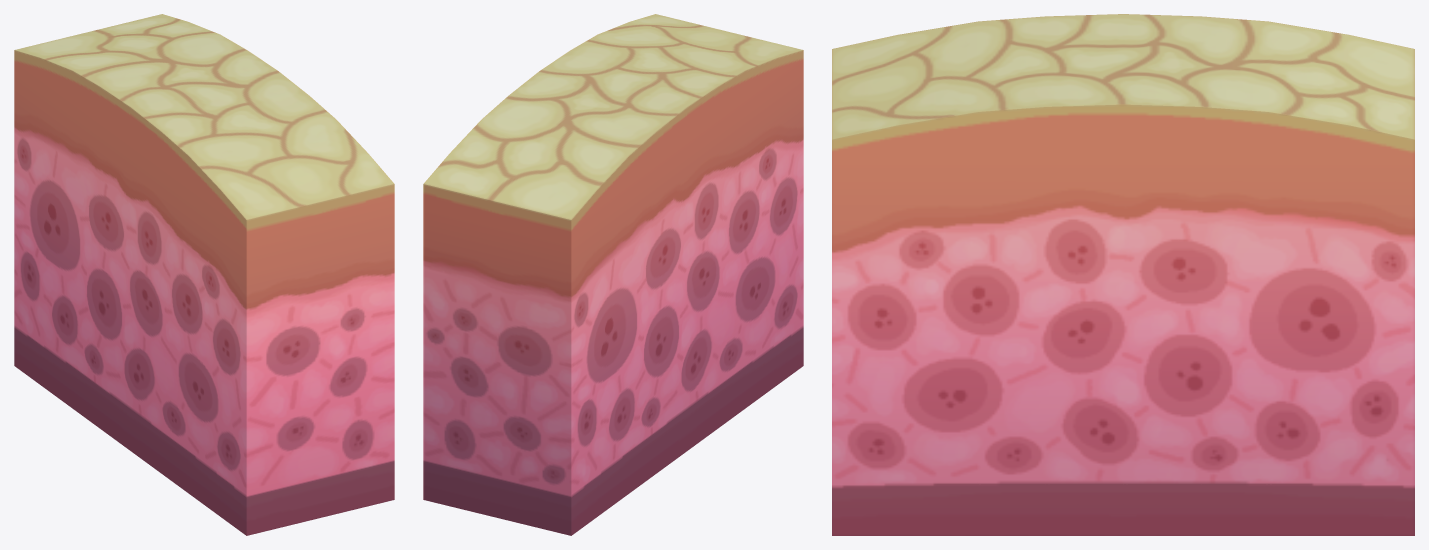
3 views of the same model, side by side, from view 1: azimuth 30°, elevation 25°; view 2: azimuth 150°, elevation 25°; view 3: azimuth 270°, elevation 25° (orthographic). The views are drawn at different scales.
Visible parts, largest first — view 1: Piel; view 2: Piel; view 3: Piel.
Boxes of the visible parts, x1,y1,x2,y2 form: Piel: (14,14,394,535); Piel: (423,14,803,535); Piel: (832,14,1414,535).
Size of the model in its own units: 0.0665 by 0.1475 by 0.1807.
Materials: 1 (1 with a texture image).
